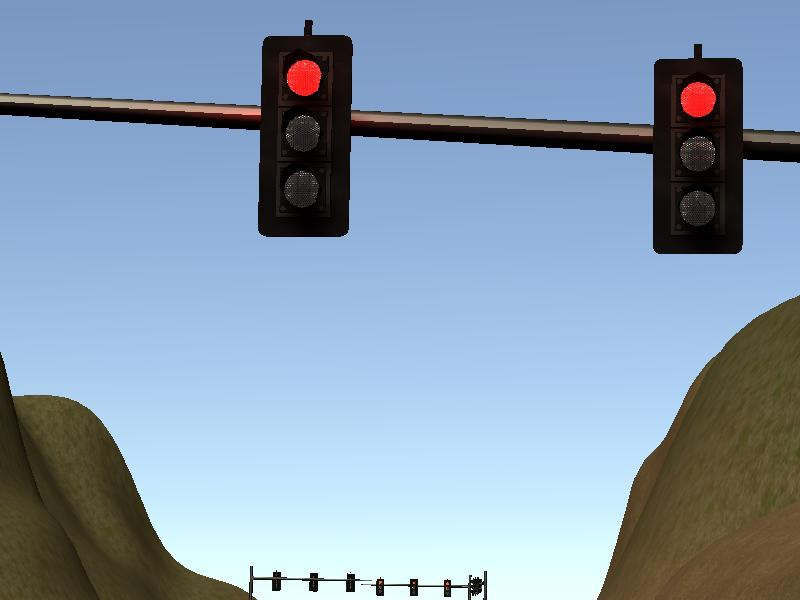Red: (256, 32, 352, 239), (649, 56, 745, 263)
